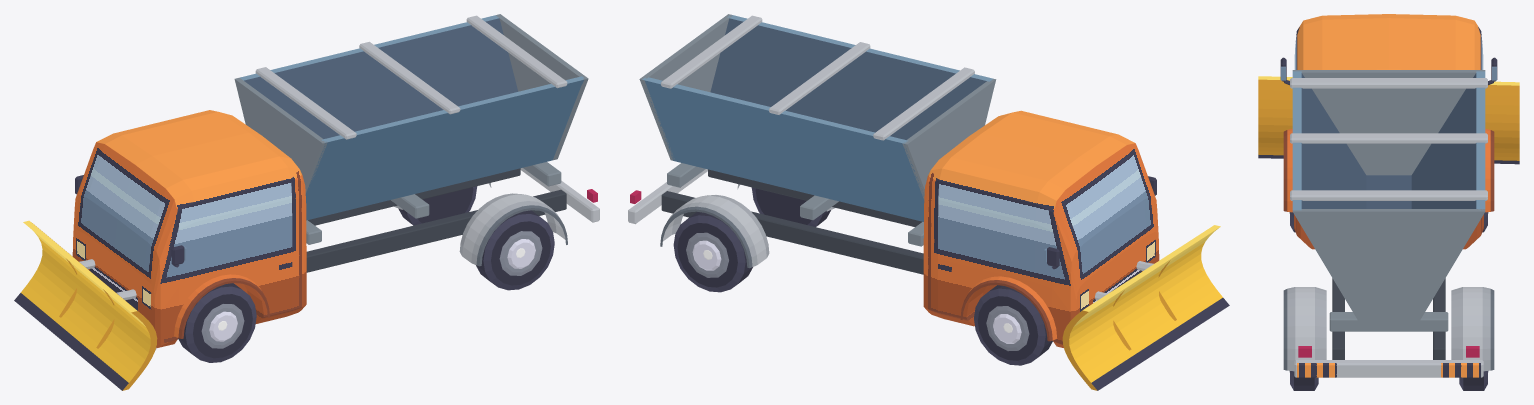
3 renders of one model, left to right at view 1: azimuth 30°, elevation 25°; view 2: azimuth 150°, elevation 25°; view 3: azimuth 270°, elevation 25°, orthographic. The views are drawn at different scales.
Visible parts, largest first — view 1: Body_static, Wheel_FL_tire_hub, Wheel_RL_tire_hub, Wheel_RR_tire_hub; view 2: Body_static, Wheel_FR_tire_hub, Wheel_RR_tire_hub, Wheel_RL_tire_hub; view 3: Body_static, Wheel_RL_tire_hub, Wheel_RR_tire_hub.
Part boxes in pixels (bbox=[...]): Body_static: bbox=[14, 14, 599, 390]; Wheel_FL_tire_hub: bbox=[178, 283, 256, 362]; Wheel_RL_tire_hub: bbox=[476, 210, 554, 290]; Wheel_RR_tire_hub: bbox=[398, 186, 477, 225]; Body_static: bbox=[628, 14, 1229, 390]; Wheel_FR_tire_hub: bbox=[974, 285, 1052, 365]; Wheel_RR_tire_hub: bbox=[673, 212, 752, 292]; Wheel_RL_tire_hub: bbox=[751, 187, 830, 226]; Body_static: bbox=[1258, 14, 1519, 377]; Wheel_RL_tire_hub: bbox=[1289, 371, 1318, 390]; Wheel_RR_tire_hub: bbox=[1459, 371, 1488, 390].
Size of the model in its own units: 120 by 46.09 by 50.43.
1 material, 1 textured.
